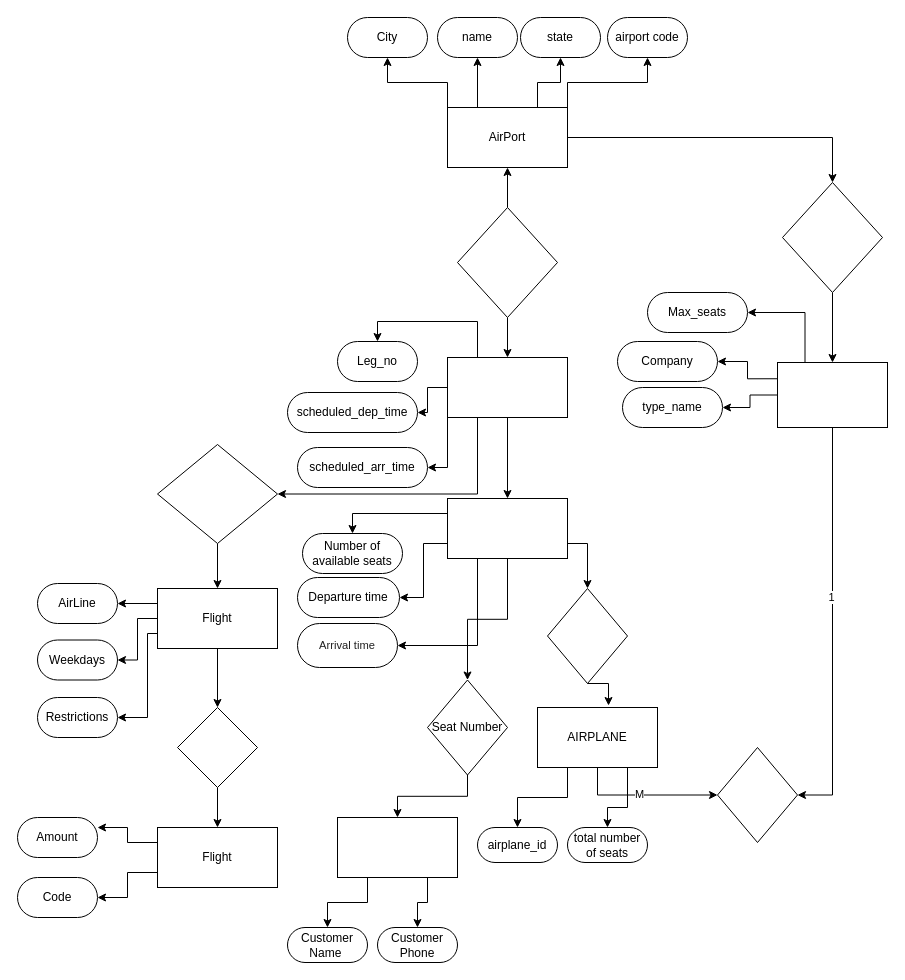
The diagram is 905 pixels wide and 980 high, and some of its shapes have lost their labels. Each missing label, with the box of its shape:
AIRPLANE Type: (776, 362, 888, 428)
Allow Landing: (782, 182, 882, 292)
Assigned: (546, 588, 628, 684)
departure or arrival: (456, 206, 558, 318)
Flight LEG: (446, 356, 568, 418)
Have: (176, 706, 258, 788)
Include: (156, 444, 278, 544)
LEG INSTANCE: (446, 498, 568, 558)
Seat & Reservation: (336, 816, 458, 878)
Share: (716, 746, 798, 842)
